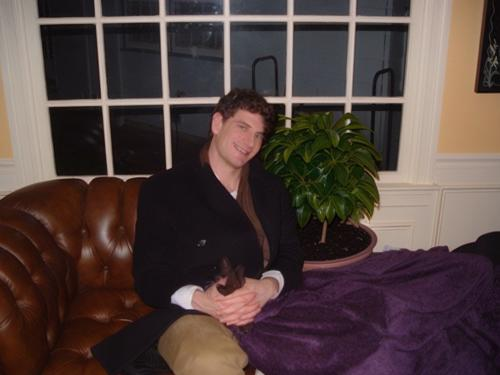person: (95, 89, 301, 375)
person/hand: (201, 277, 260, 328), (216, 277, 262, 326)
person/head: (211, 90, 272, 168)
pottedplant: (261, 112, 382, 268)
sofa: (1, 178, 145, 375)
